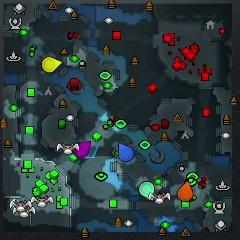p1: (118, 143, 133, 162)
p2: (138, 181, 155, 199)
p3: (74, 141, 92, 158)
p4: (42, 57, 61, 72)
p5: (177, 181, 193, 202)
